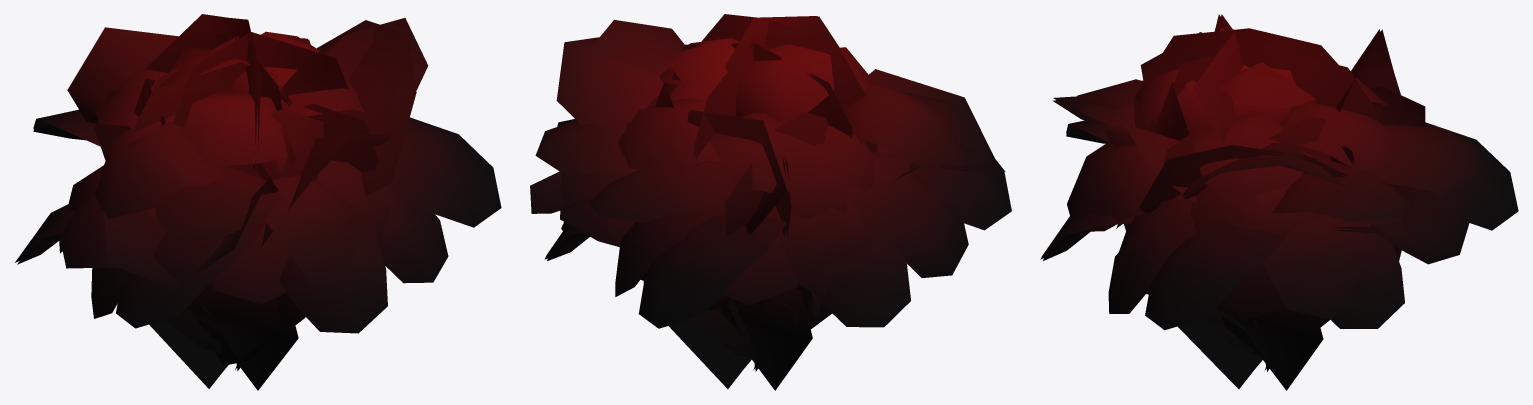
Rendered from Bush05_AFS_high.FBX.
The picture shows the model from 3 angles, left to right: view 1: azimuth 30°, elevation 25°; view 2: azimuth 150°, elevation 25°; view 3: azimuth 270°, elevation 25°; orthographic projection. The views are drawn at different scales.
Visible parts, largest first — view 1: Bush05_AFS_high; view 2: Bush05_AFS_high; view 3: Bush05_AFS_high.
Part boxes in pixels (x1=…): Bush05_AFS_high: x1=15, y1=14, x2=501, y2=390; Bush05_AFS_high: x1=530, y1=14, x2=1011, y2=390; Bush05_AFS_high: x1=1040, y1=14, x2=1518, y2=390.
Bounding box in the file's own units: 0.6551 × 0.5446 × 0.6581.
